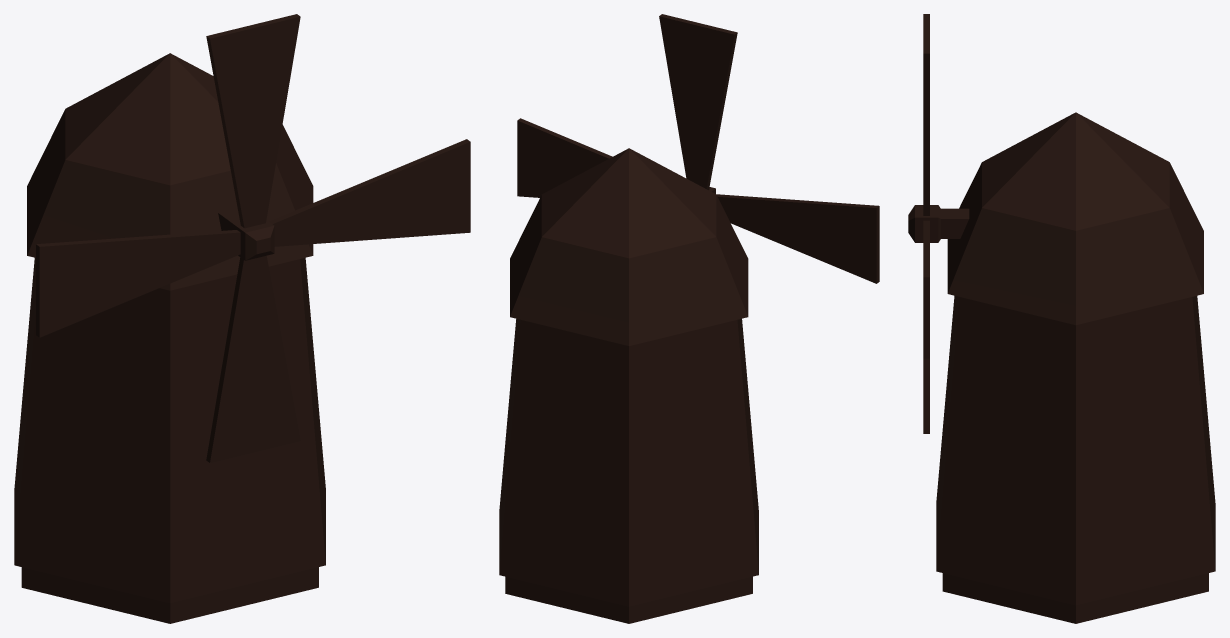
File: Windmill_Model.fbx
3 renders of one model, left to right at view 1: azimuth 30°, elevation 25°; view 2: azimuth 150°, elevation 25°; view 3: azimuth 270°, elevation 25°, orthographic. The views are drawn at different scales.
Parts seen in each view (by area): view 1: Windmill; view 2: Windmill; view 3: Windmill.
Part boxes in pixels (x1,y1,x2,y2): Windmill: [14, 14, 470, 623]; Windmill: [499, 14, 879, 623]; Windmill: [908, 14, 1215, 623].
Size of the model in its own units: 3.24 by 4.21 by 2.23.
